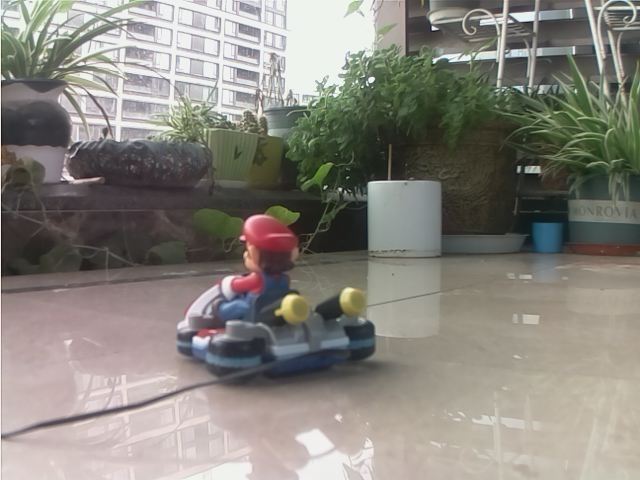mario: (169, 210, 392, 394)
